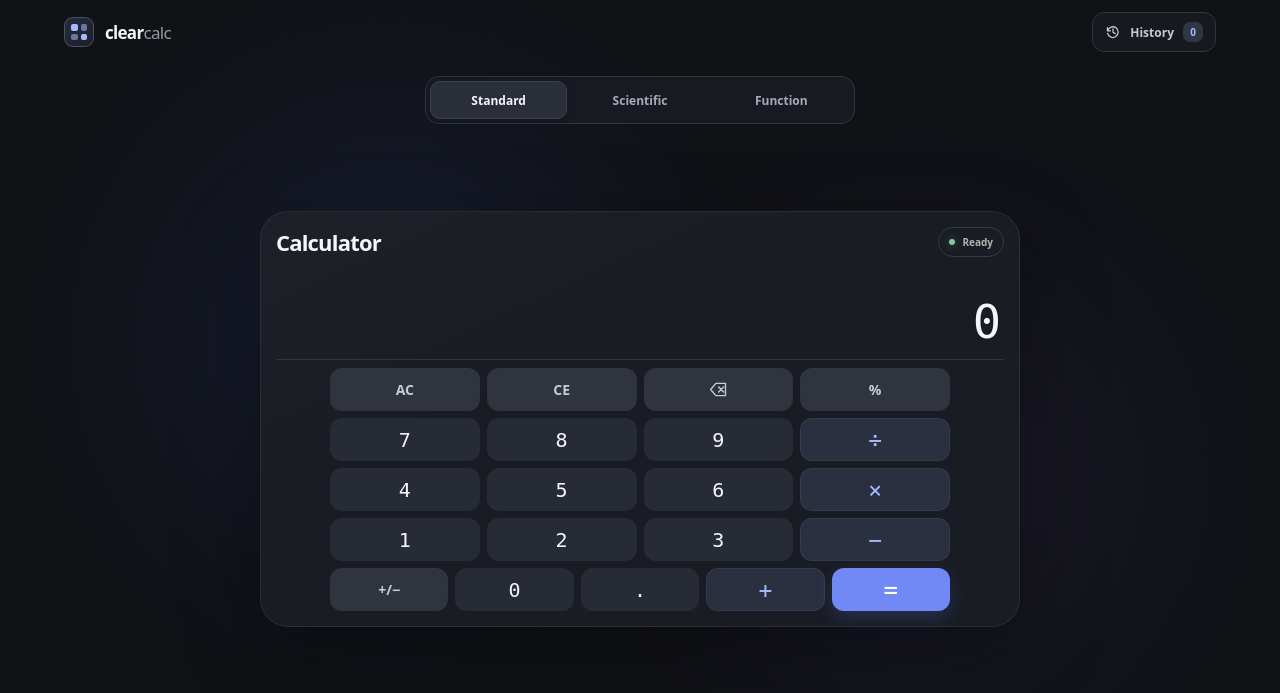
Test: Calculator › switches to scientific mode and evaluates a supported expression
The width and height of the screenshot is (1280, 693).
Click the tab "Scientific" at [640, 100], box top-left (571, 81), bottom-right (709, 119)
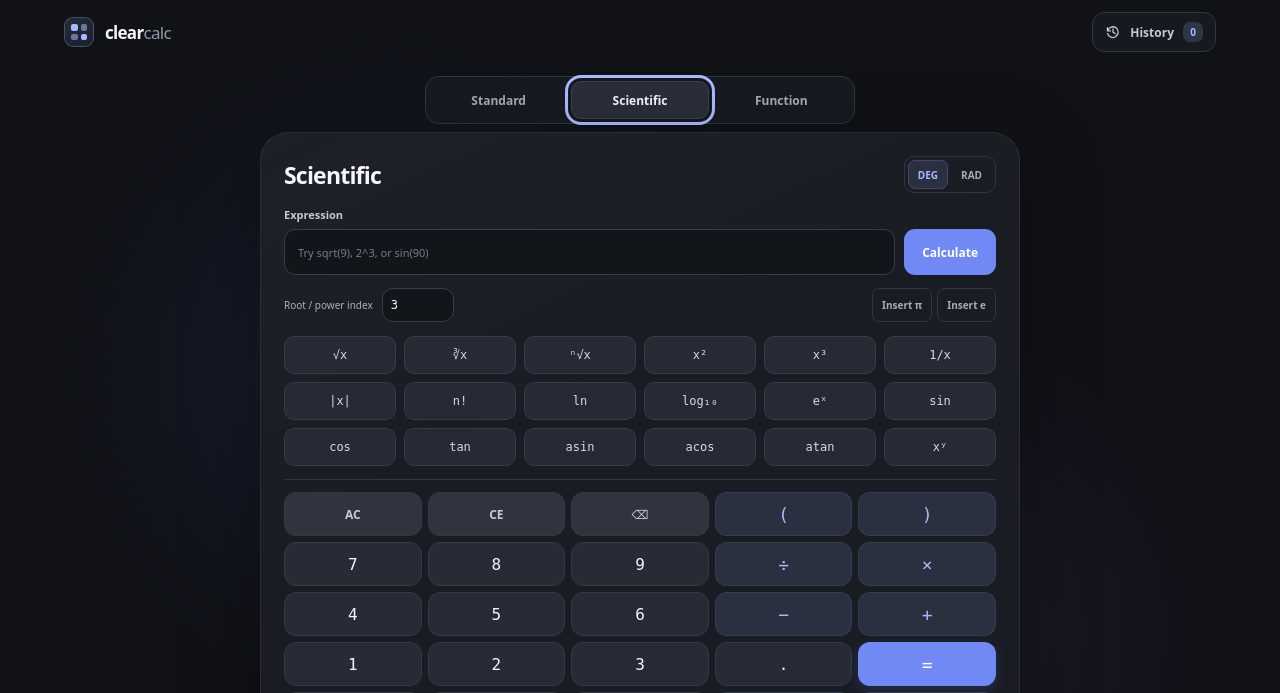
Type "sqrt(9)+2^3" into the field labelled "Expression" at [590, 252], box top-left (284, 229), bottom-right (895, 275)
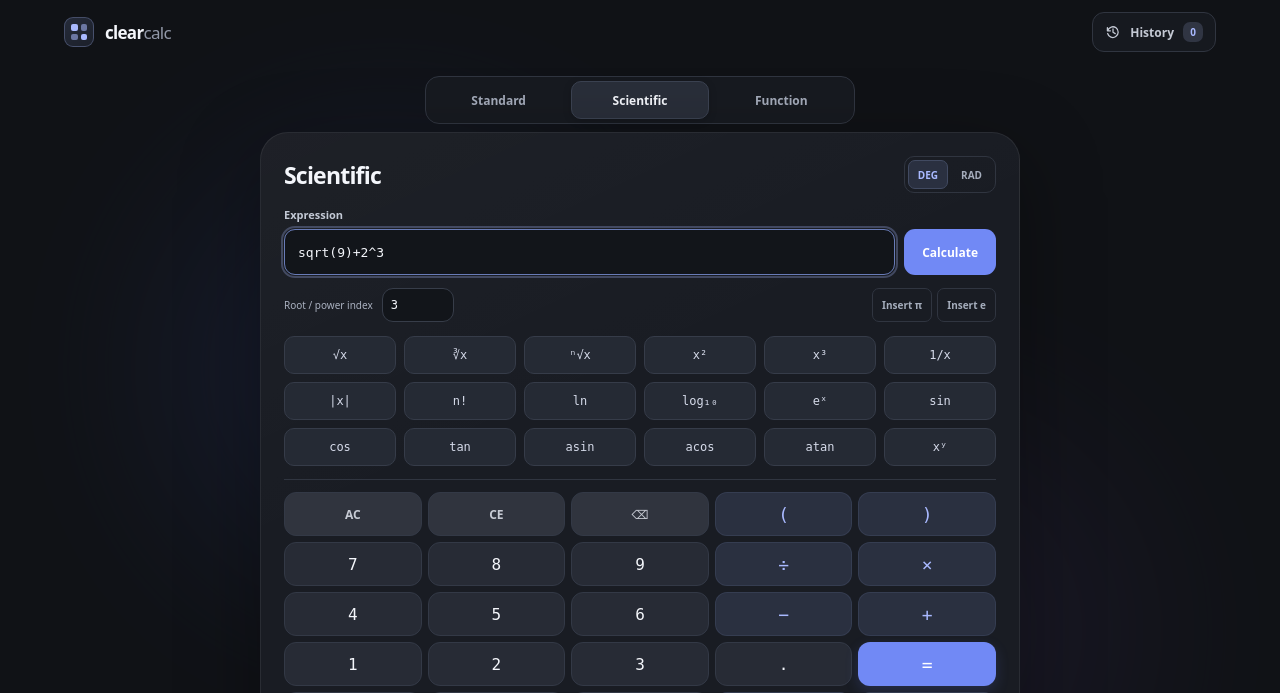
Click the button "Calculate" at [950, 252], box top-left (904, 229), bottom-right (996, 275)
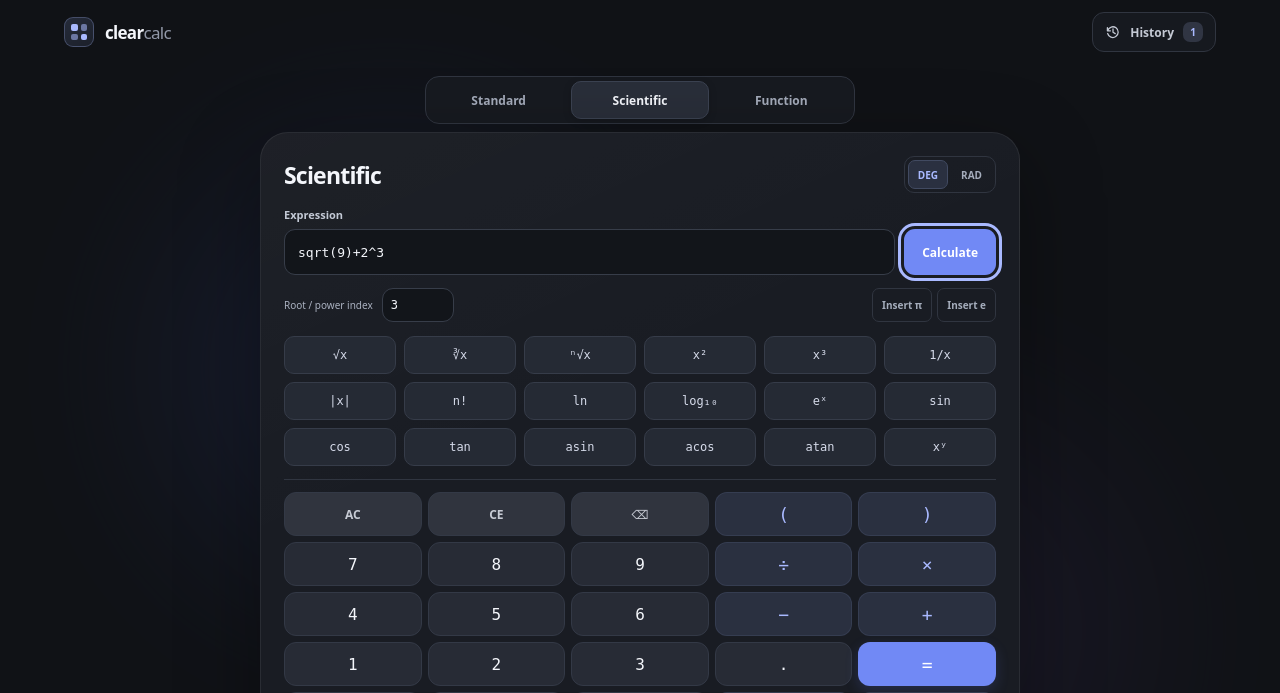
Now the button "History 1" is shown, box top-left (1092, 12), bottom-right (1216, 52)
